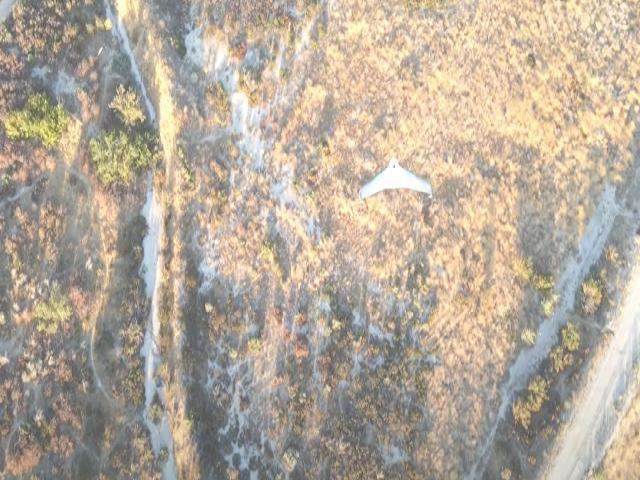iha: (357, 154, 433, 202)
